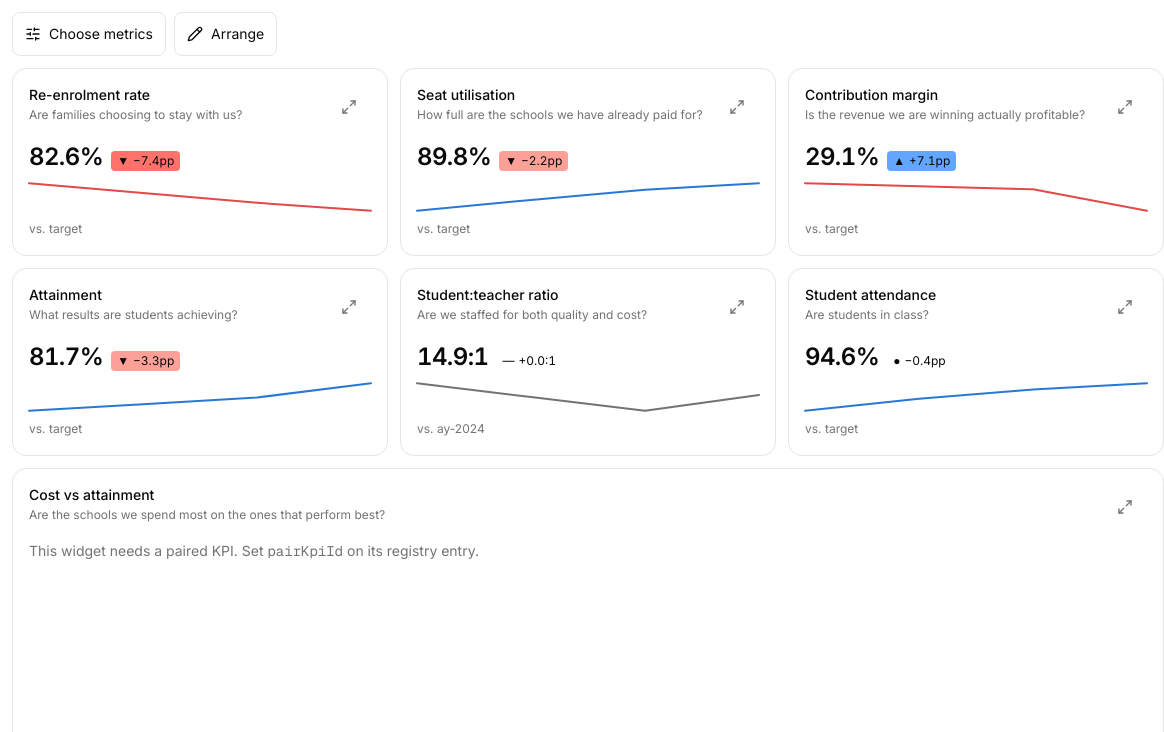
Test: DashboardCustomizer › undo › takes back a removal
Click the button "Arrange" at (226, 34), box [174,12,277,56]
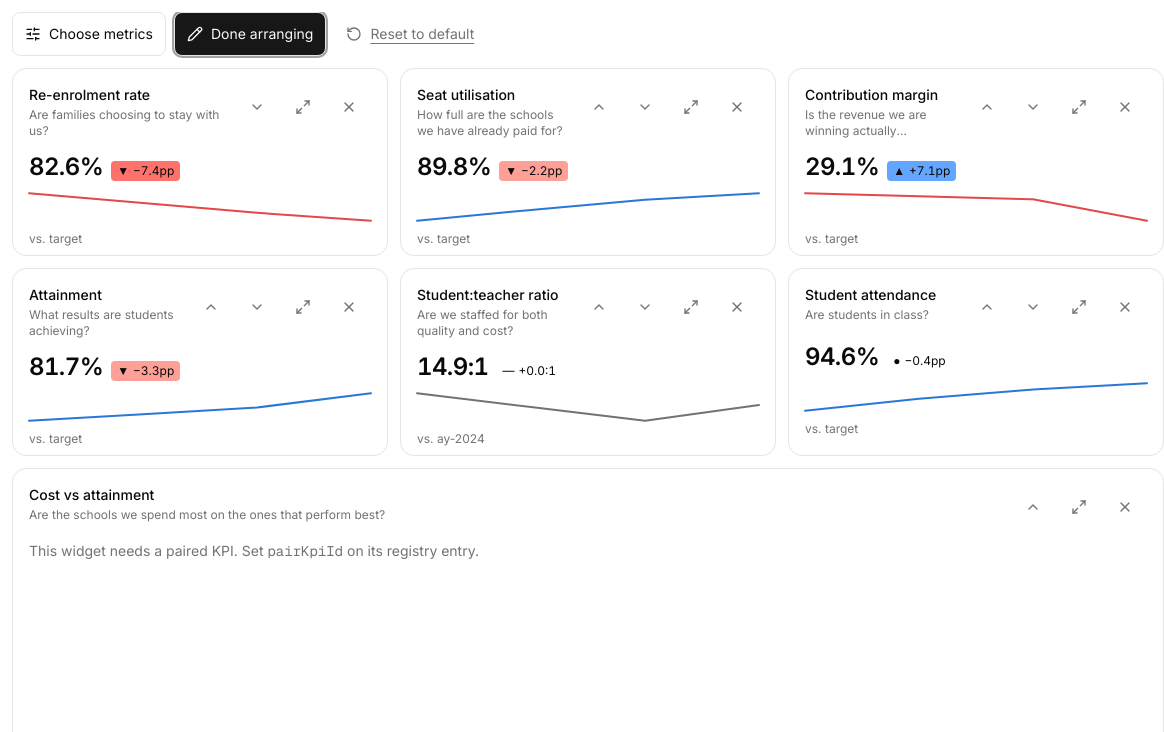
Click the button named "Remove Re-enrolment rate from dashboard" at (349, 107), box [327,85,371,129]
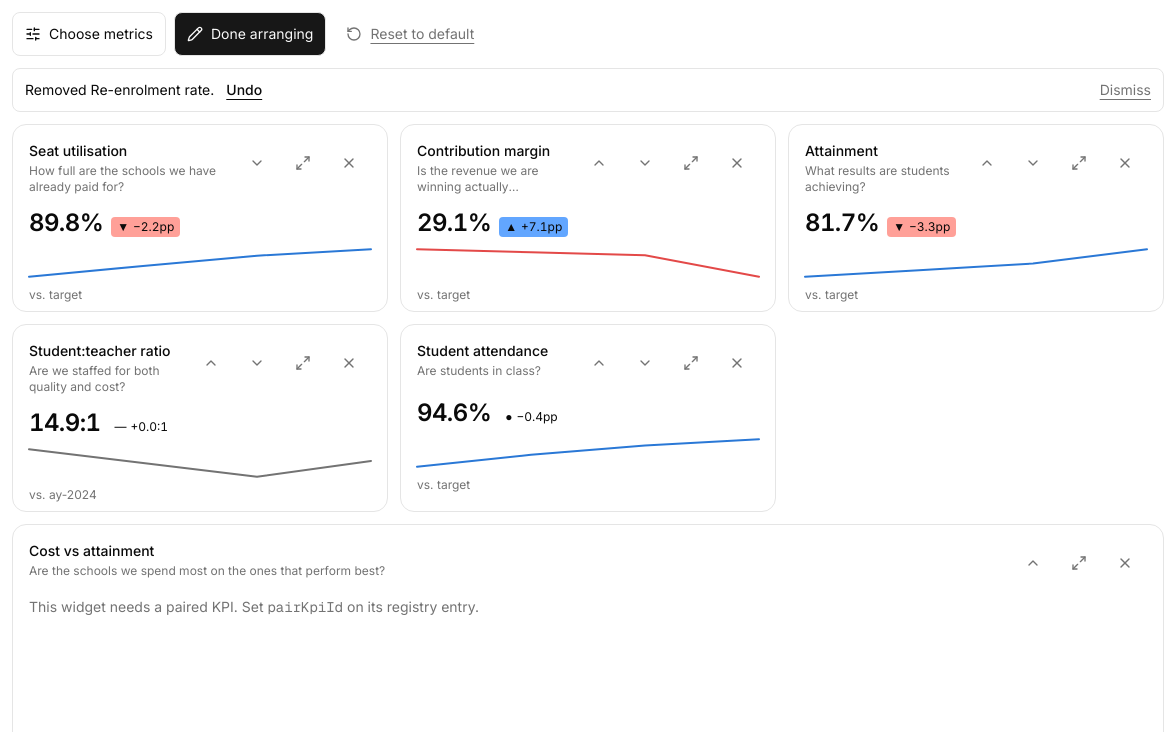
Click the button "Undo" at (244, 90), box [226,80,262,100]
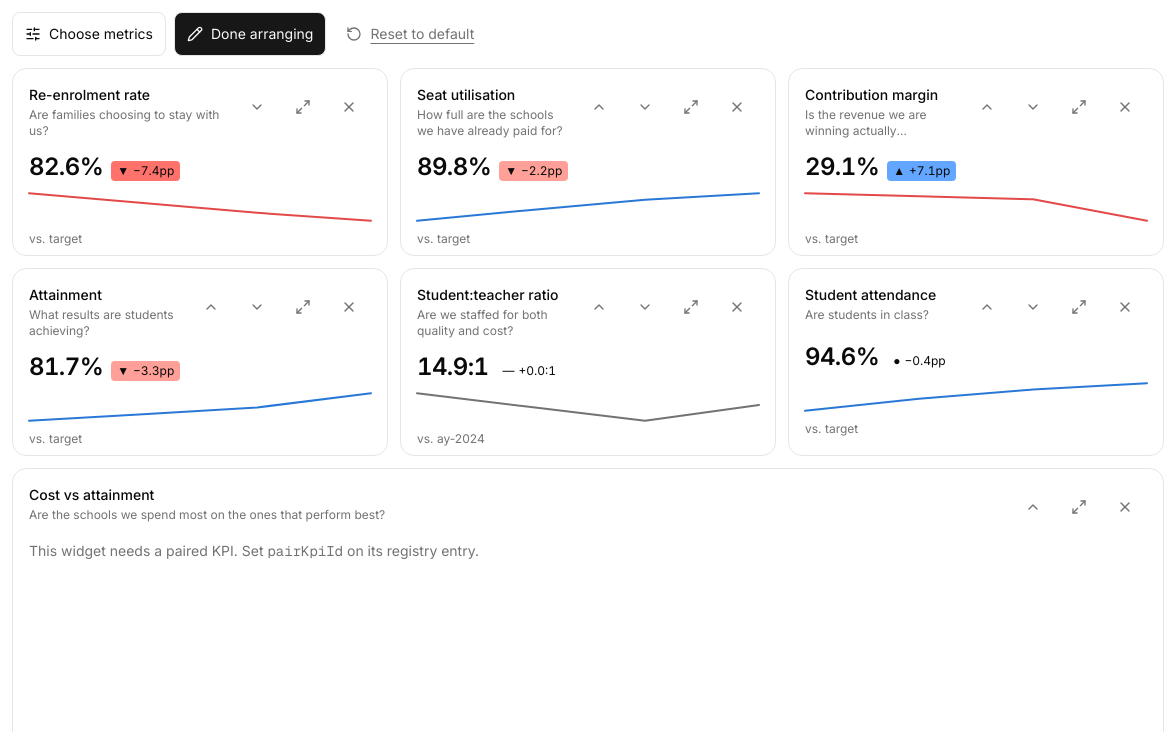
Expected: the number of list items is 7
Expected: the heading "Re-enrolment rate" is shown, [29,86,150,103]
